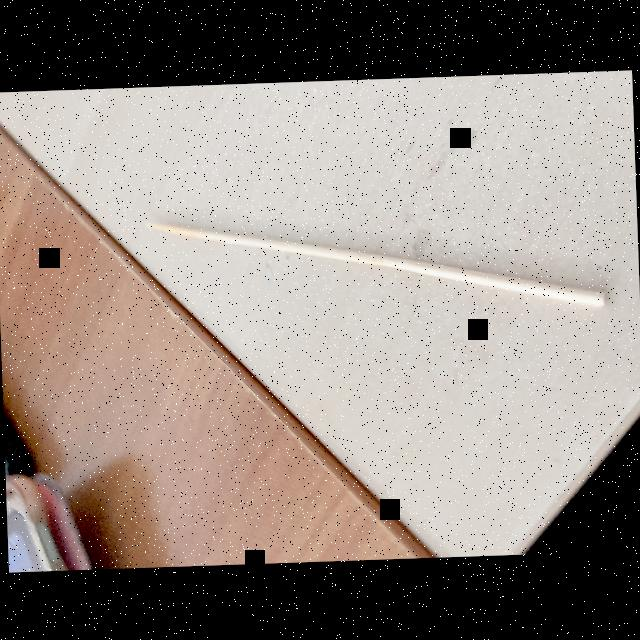stick: (132, 200, 614, 330)
